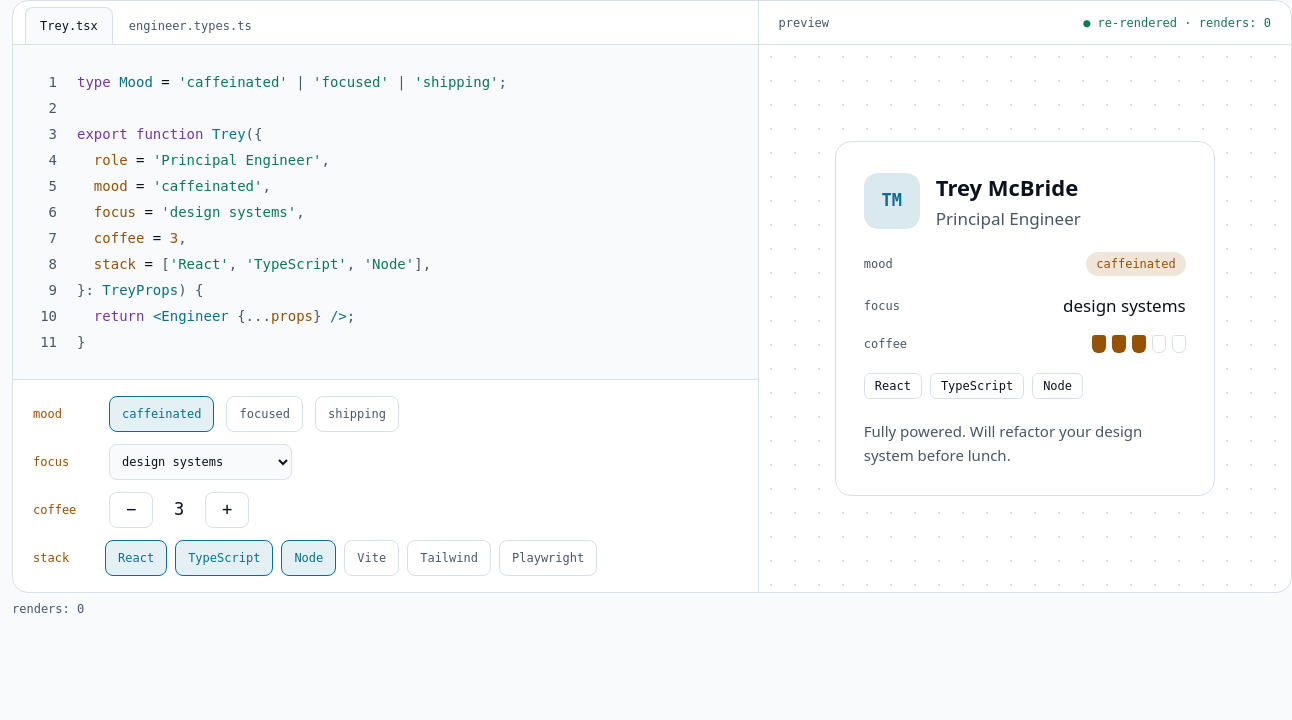
<TreyEditor /> › steps coffee within bounds and disables the buttons at the limits
Click the button named "More coffee".
click(227, 510)  # box [205,492,249,528]
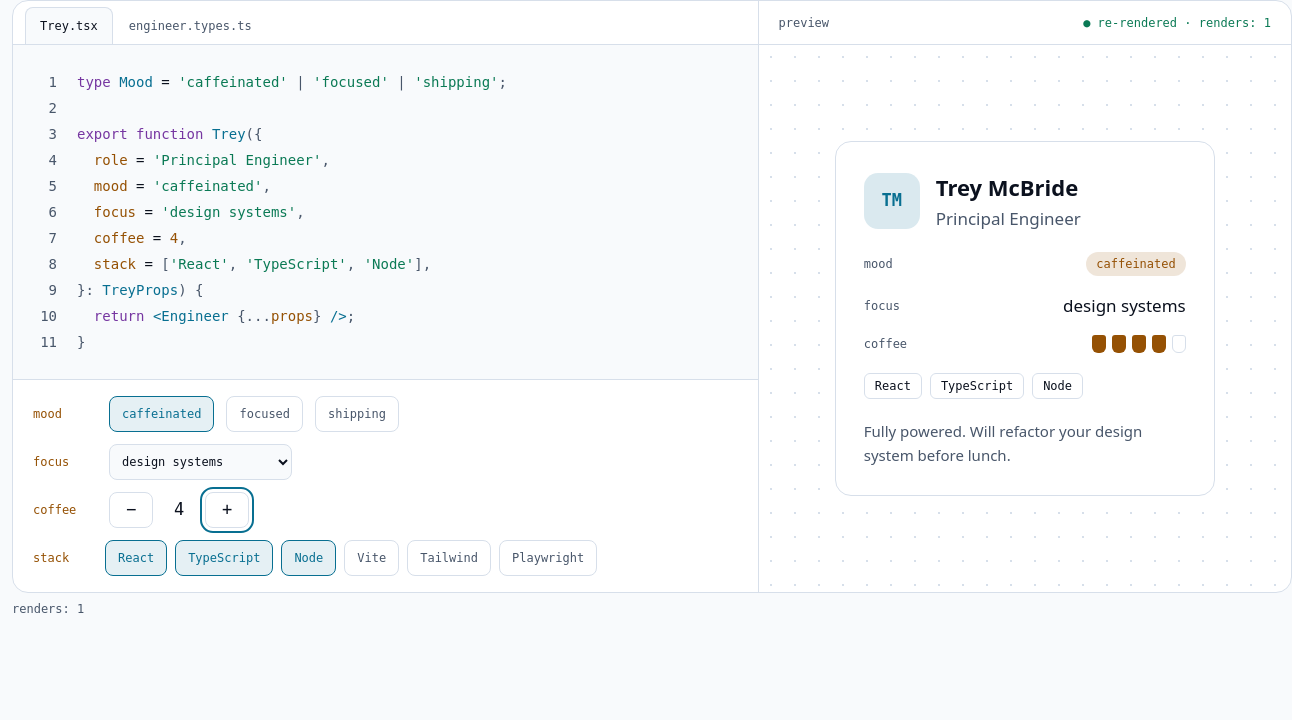
Click the button named "More coffee".
click(227, 510)  # box [205,492,249,528]
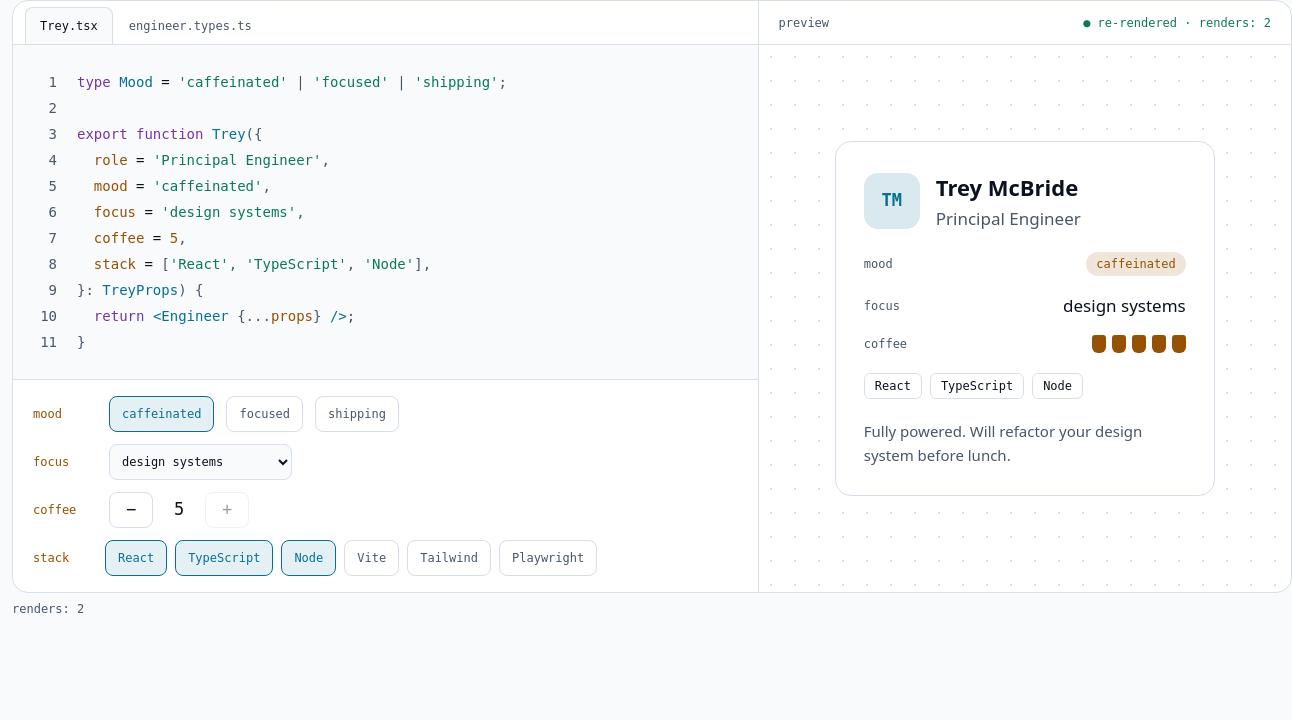
Now the button named "More coffee" is disabled, box [205,492,249,528]
Now the picture named "5 of 5 cups" is shown, box [1092,335,1186,353]
